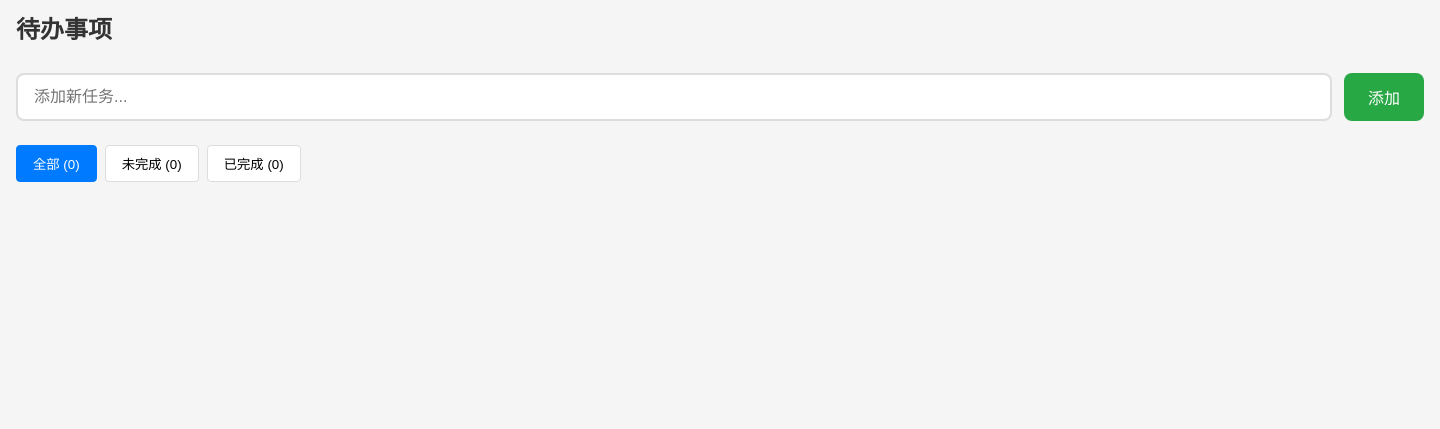
Test: TodoList › should filter todos by status
In the field with placeholder "添加新任务...": (674, 97) [16,73,1332,121], type "任务1"
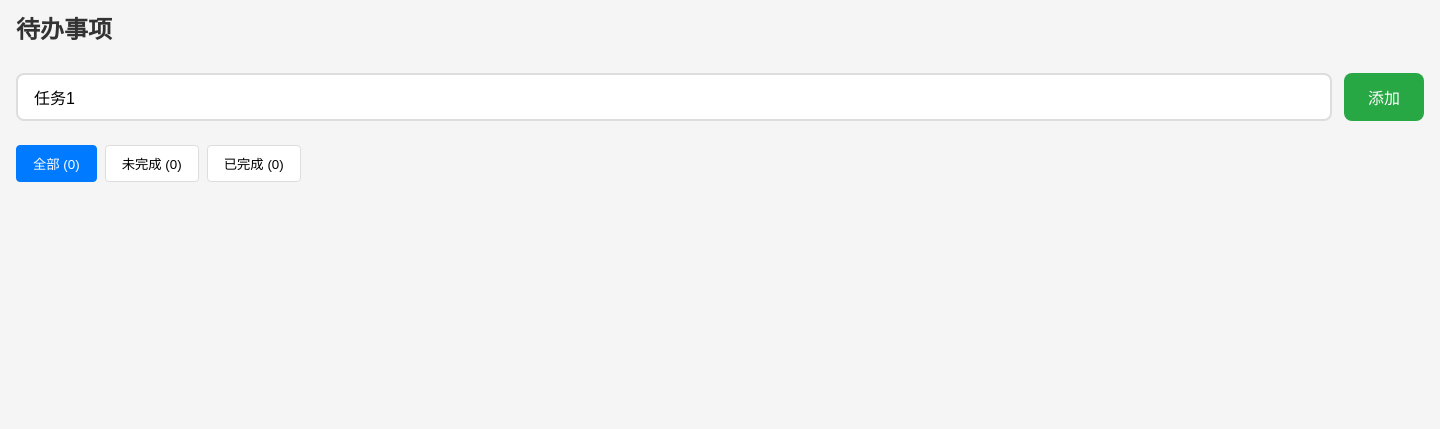
Click the button "添加": (1384, 97) [1344,73,1424,121]
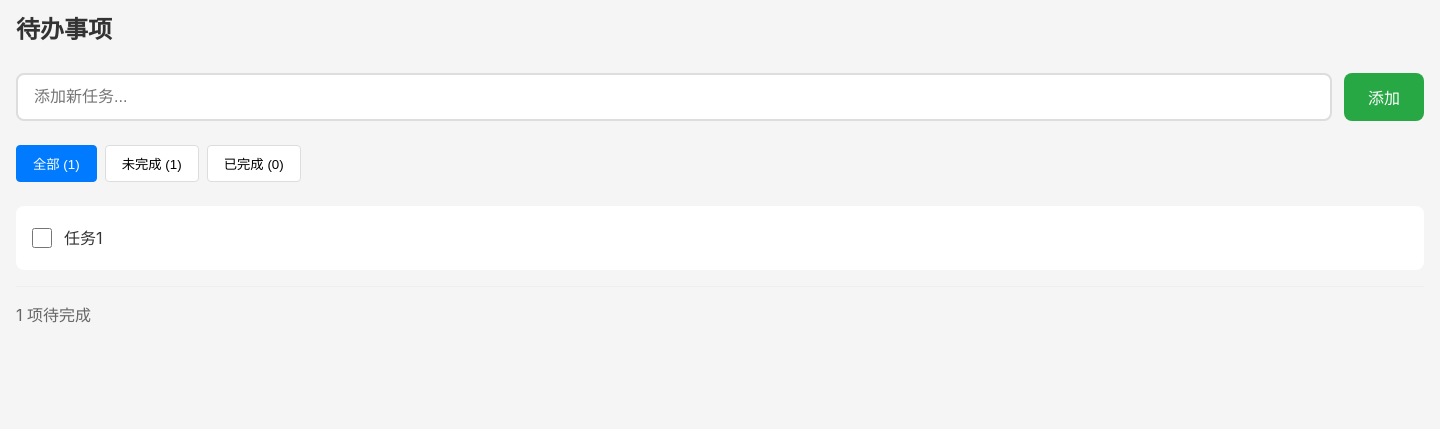
In the field with placeholder "添加新任务...": (674, 97) [16,73,1332,121], type "任务2"
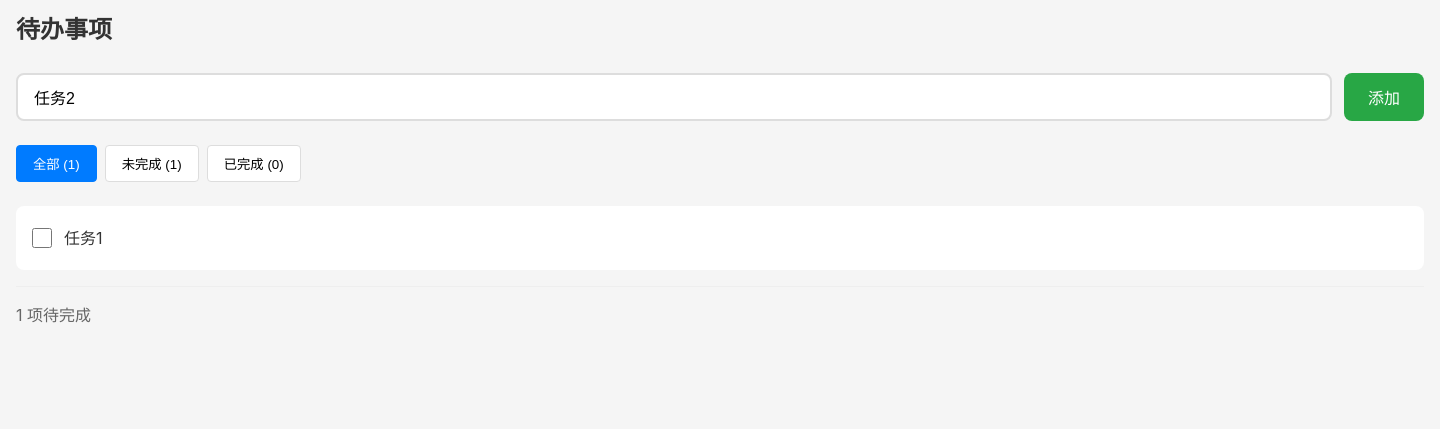
Click the button "添加": (1384, 97) [1344,73,1424,121]
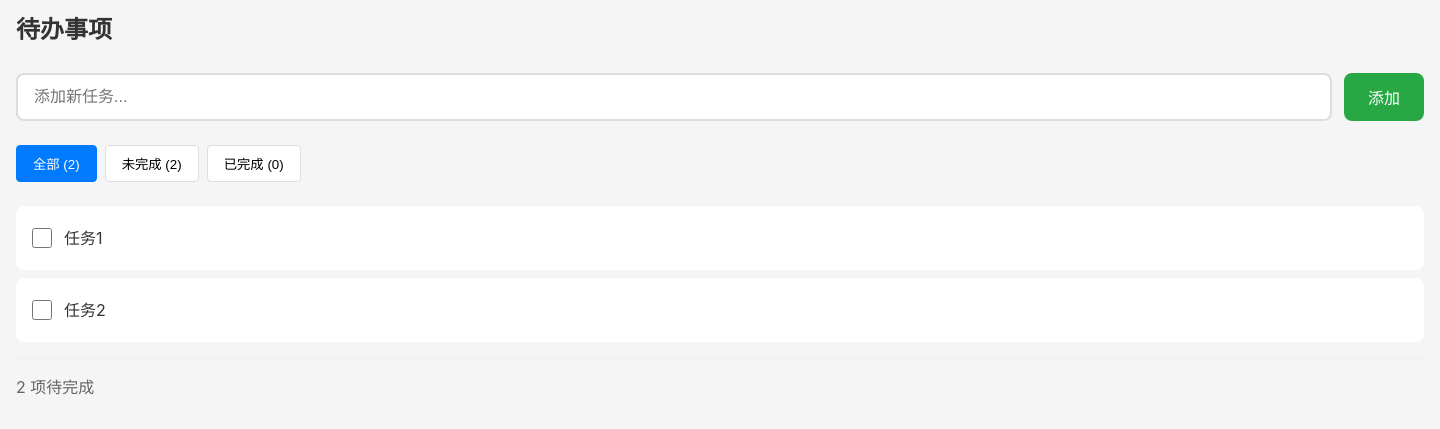
# Complete one
Click the checkbox labelled "任务1": (42, 238) [32,228,52,248]
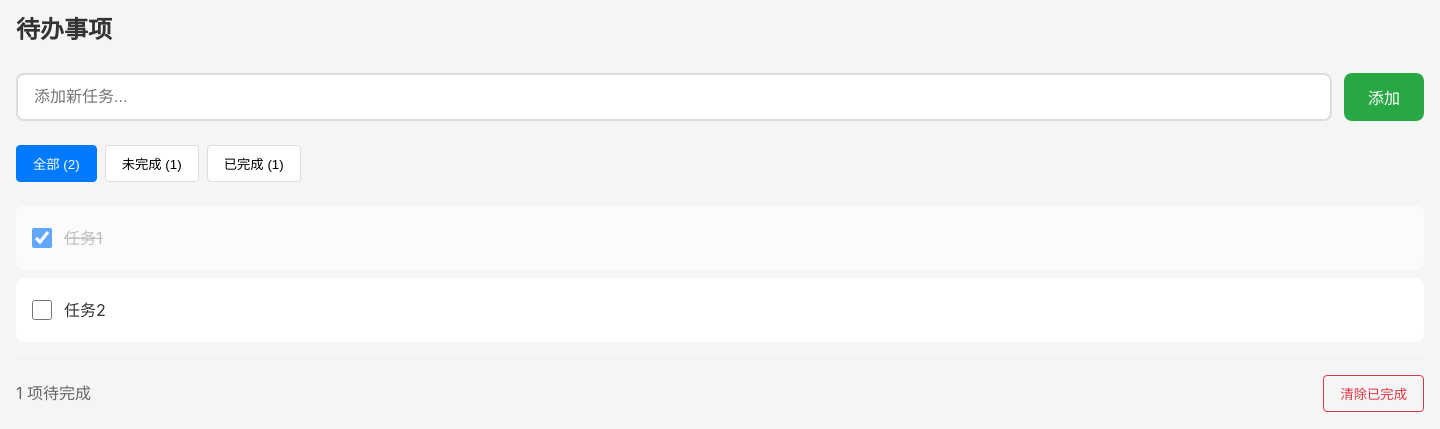
# Filter by active (uncompleted)
Click the button "未完成 (1)": (152, 164) [105,145,199,182]
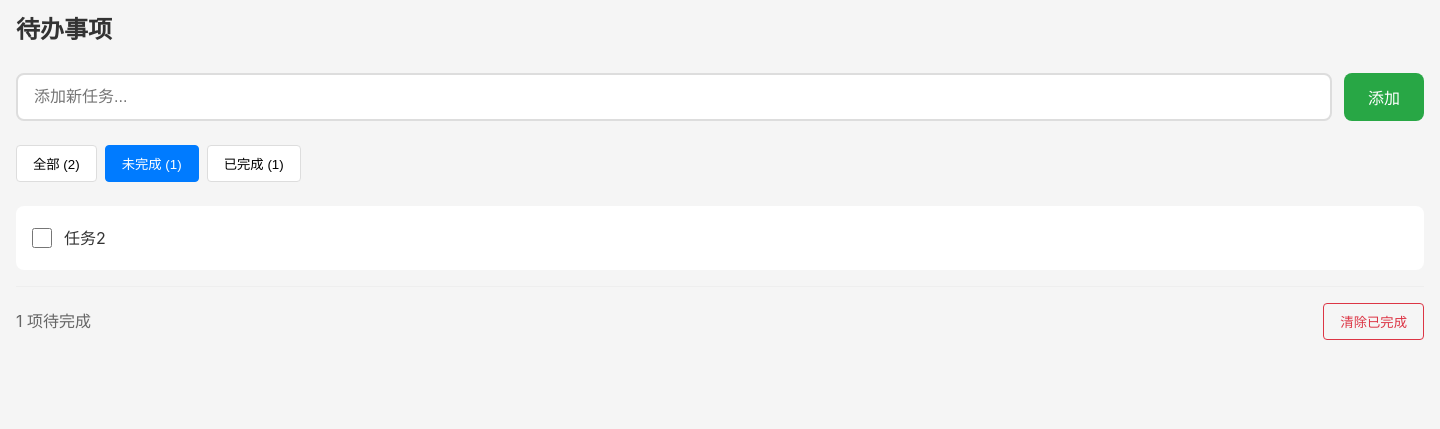
Check: the text "任务2" is shown, box [64,226,106,251]
Check: the text "任务1" is gone
